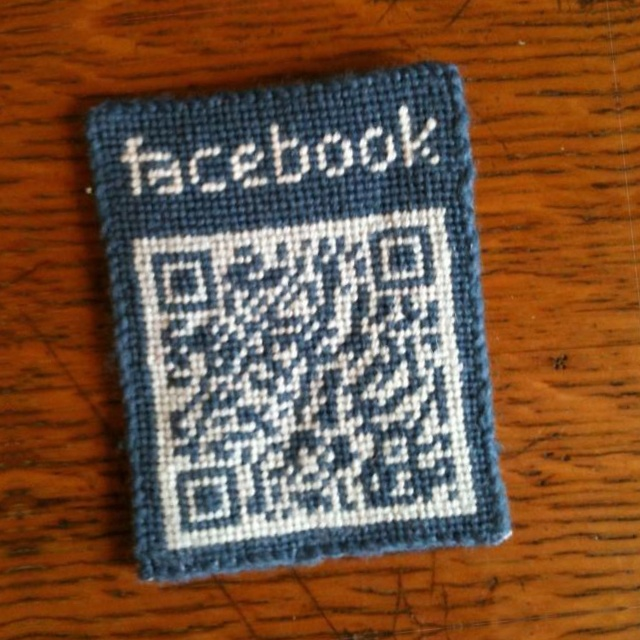qr-code: (150, 224, 460, 532)
